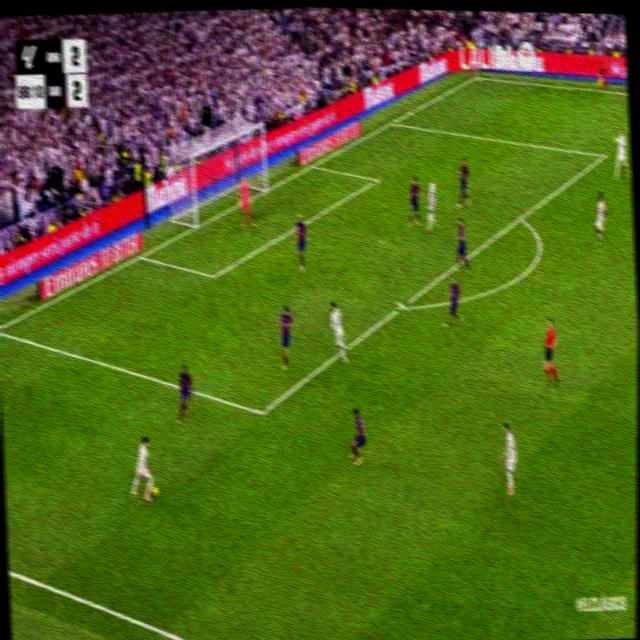bigarea_bottom_inner: (255, 399, 268, 426)
bigarea_top_inner: (598, 145, 609, 165)
bigarea_top_outter: (389, 115, 397, 127)
bottom_arc_area_intersection: (396, 294, 410, 316)
corner: (470, 70, 482, 82)
smallarea_bottom_outter: (136, 247, 146, 263)
smallarea_top_inner: (372, 171, 380, 186)
top_arc_area_intersection: (515, 207, 527, 227)
